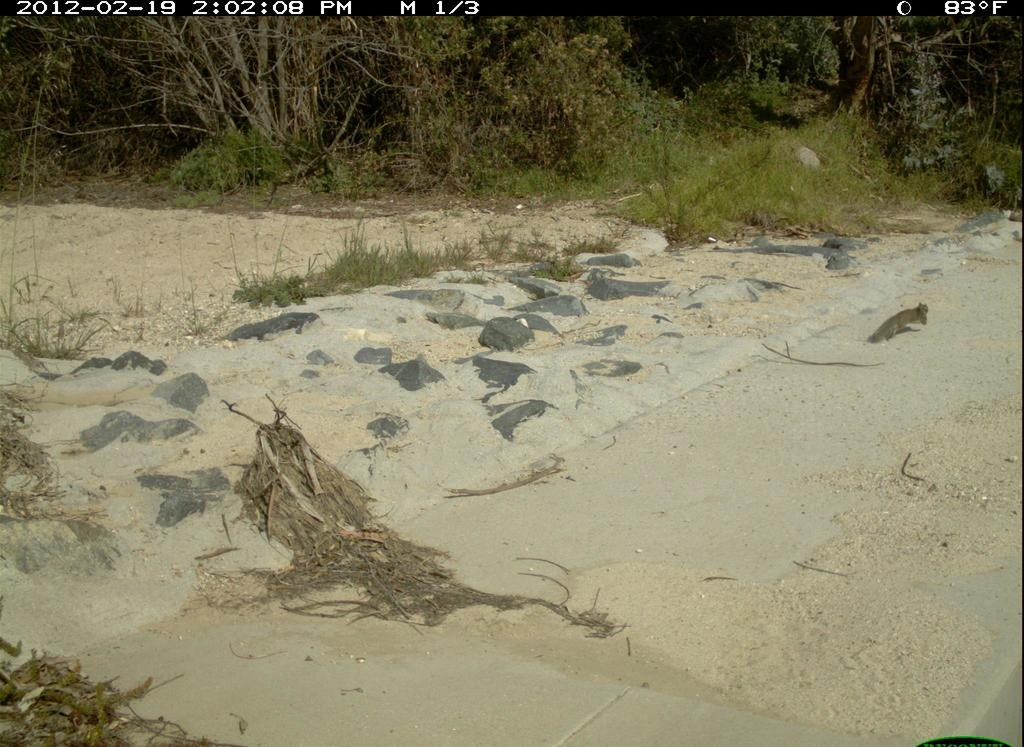squirrel: (857, 296, 940, 356)
